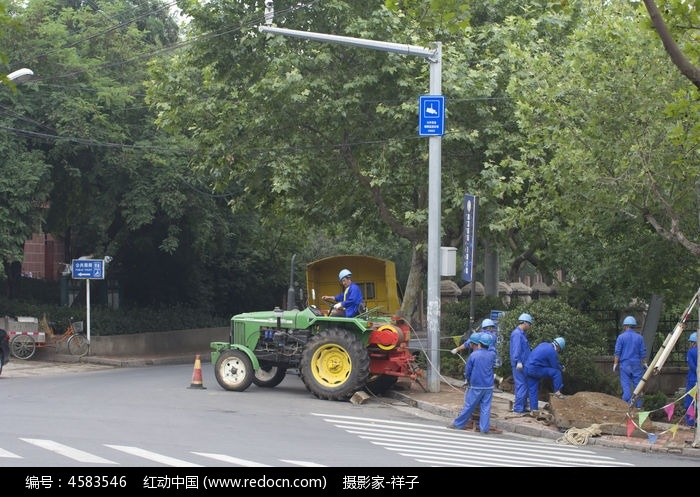blue: (516, 312, 532, 329), (480, 317, 496, 333), (621, 315, 636, 331), (477, 333, 492, 349), (337, 268, 351, 285), (552, 336, 565, 352), (686, 331, 696, 350), (468, 333, 479, 349)
